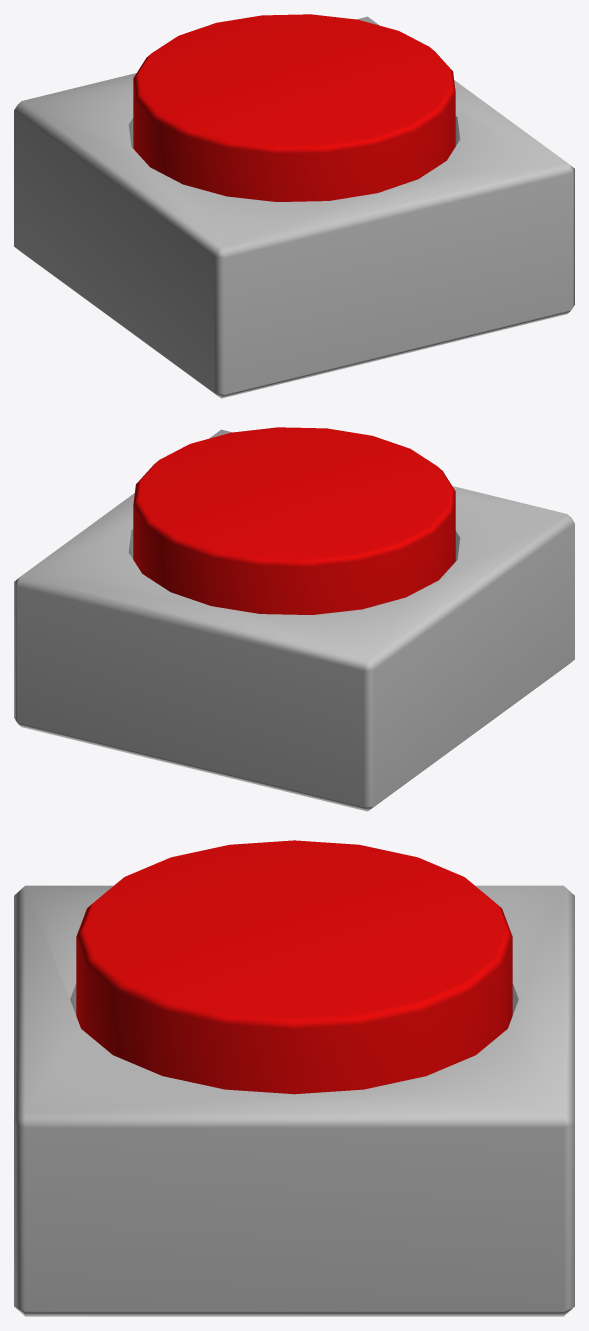
The model's file is button.fbx.
The picture shows the model from 3 angles, top to bottom: view 1: azimuth 30°, elevation 25°; view 2: azimuth 150°, elevation 25°; view 3: azimuth 270°, elevation 25°; orthographic projection. The views are drawn at different scales.
Parts seen in each view (by area): view 1: polySurface2, polySurface3; view 2: polySurface2, polySurface3; view 3: polySurface2, polySurface3.
Boxes of the visible parts, box(x1,y1,x2,y2) form: polySurface2: box(14, 16, 574, 398); polySurface3: box(133, 14, 455, 201); polySurface2: box(14, 429, 574, 811); polySurface3: box(133, 427, 455, 614); polySurface2: box(14, 885, 574, 1316); polySurface3: box(76, 840, 512, 1094).
Size of the model in its own units: 5 by 2.69 by 5.
